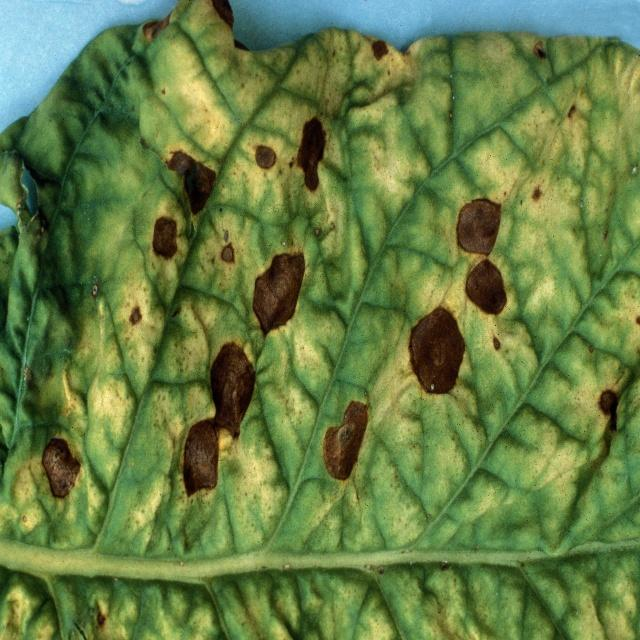leaf_spot: (0, 0, 633, 637)
